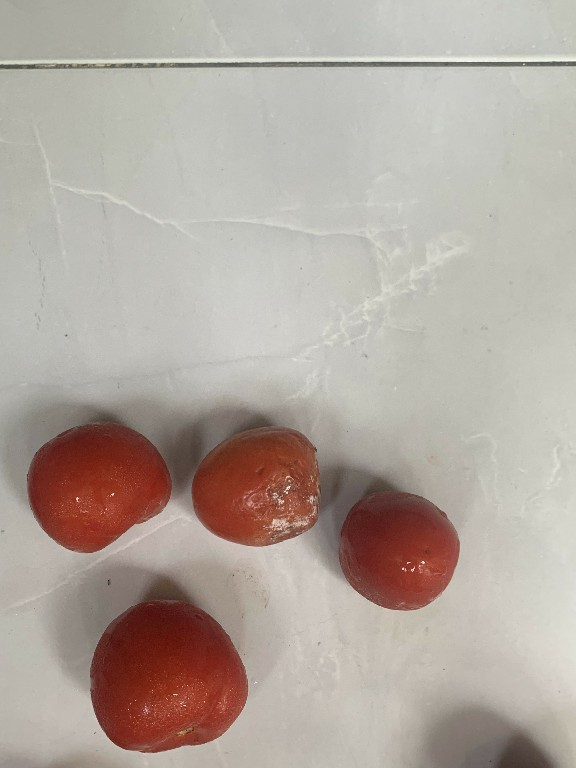NG: (179, 417, 335, 559)
OK: (64, 593, 266, 767), (18, 409, 174, 569), (330, 479, 474, 632)
